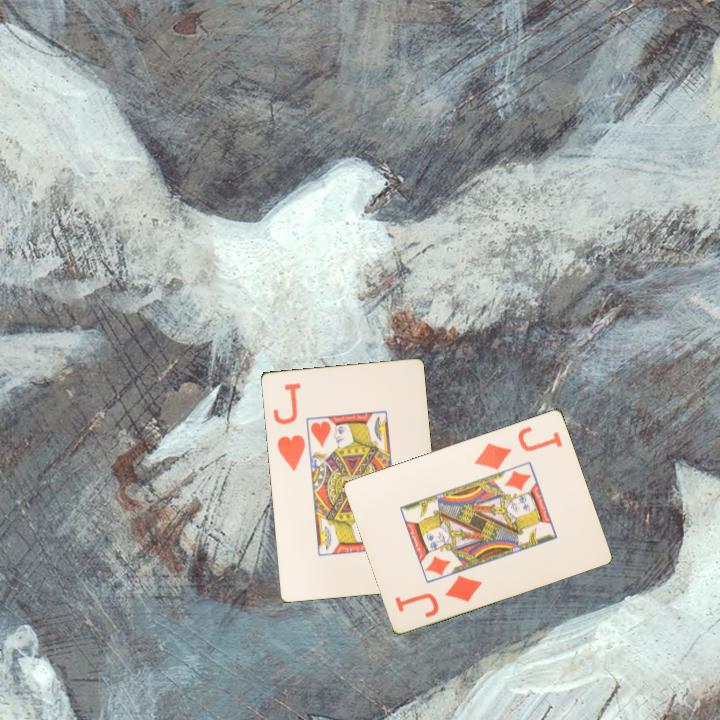Jd: (471, 422, 566, 472), (391, 571, 486, 620)
Jh: (269, 379, 308, 474)
